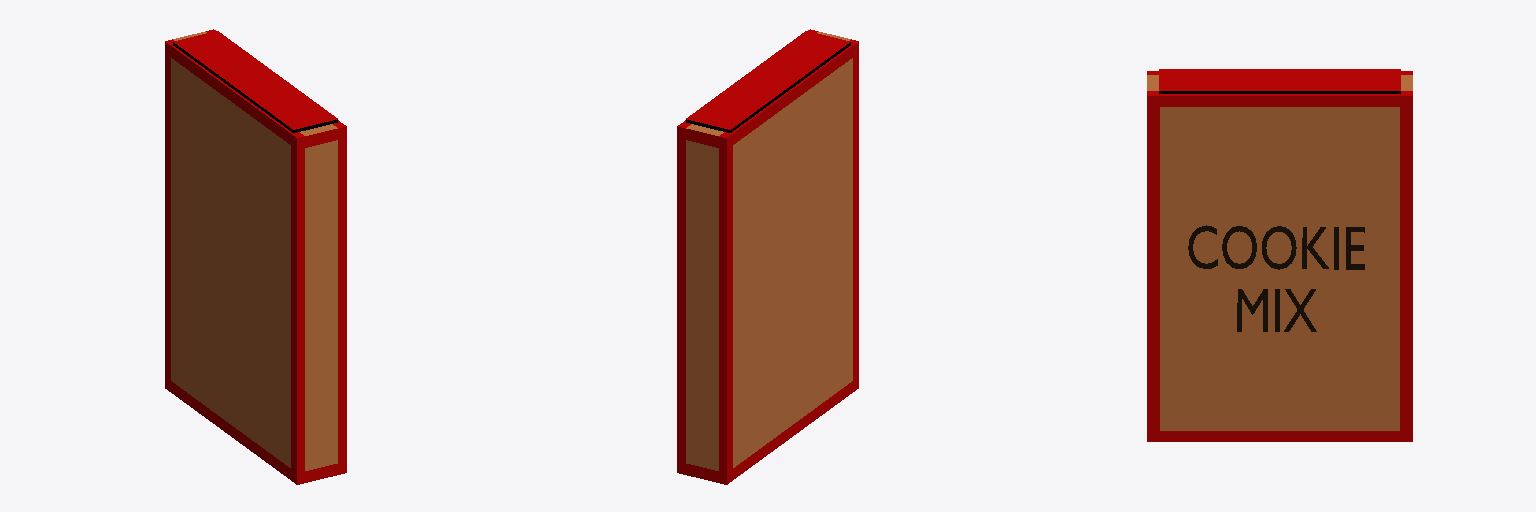
Rendered from CookieMix.obj.
The picture shows the model from 3 angles: view 1: azimuth 30°, elevation 25°; view 2: azimuth 150°, elevation 25°; view 3: azimuth 270°, elevation 25°; orthographic projection.
Parts seen in each view (by area): view 1: Cube; view 2: Cube; view 3: Cube, Text.
Boxes of the visible parts, x1=… form: Cube: x1=165, y1=29, x2=346, y2=484; Cube: x1=677, y1=29, x2=858, y2=484; Cube: x1=1147, y1=69, x2=1412, y2=441; Text: x1=1188, y1=225, x2=1364, y2=331.
Bounding box in the file's own units: 0.6956 × 4.67 × 3.2.